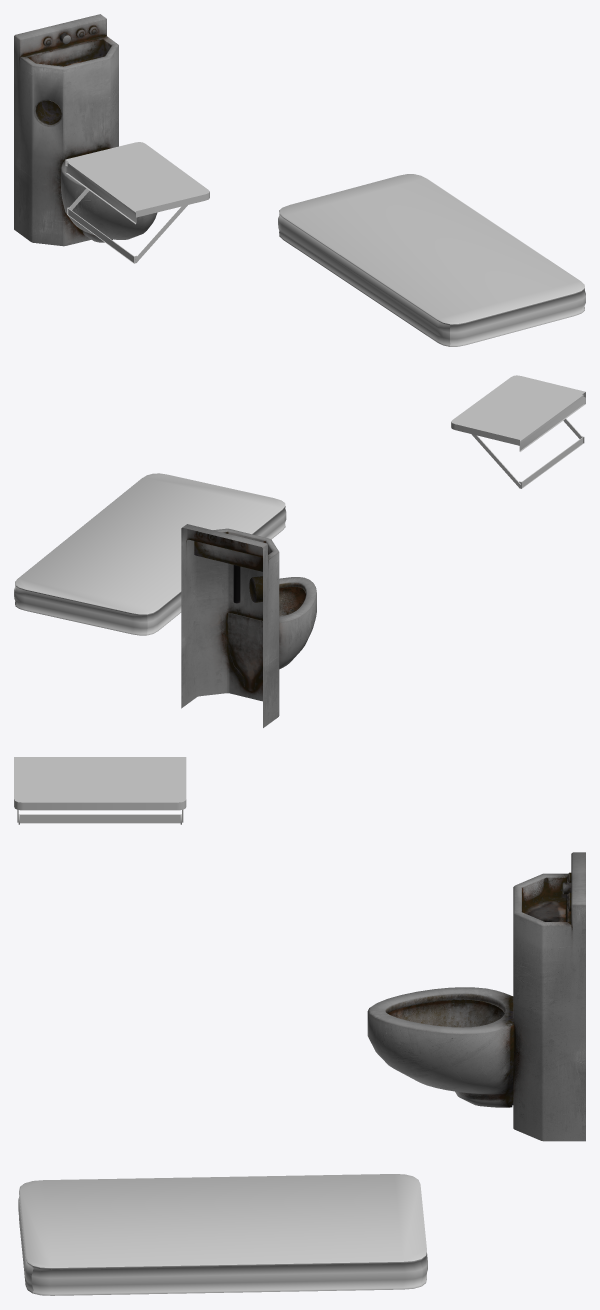
File: SM_Cell_01_Preset_Low.fbx
3 renders of one model, top to bottom at view 1: azimuth 30°, elevation 25°; view 2: azimuth 150°, elevation 25°; view 3: azimuth 270°, elevation 25°, orthographic. The views are drawn at different scales.
Visible parts, largest first — view 1: SM_Cell_01_Preset_Low_LOD0; view 2: SM_Cell_01_Preset_Low_LOD0; view 3: SM_Cell_01_Preset_Low_LOD0.
Part boxes in pixels (x1,y1,x2,y2): SM_Cell_01_Preset_Low_LOD0: [14, 14, 585, 346]; SM_Cell_01_Preset_Low_LOD0: [14, 375, 585, 727]; SM_Cell_01_Preset_Low_LOD0: [14, 757, 585, 1295].
Bounding box in the file's own units: 301 × 265 × 136.
